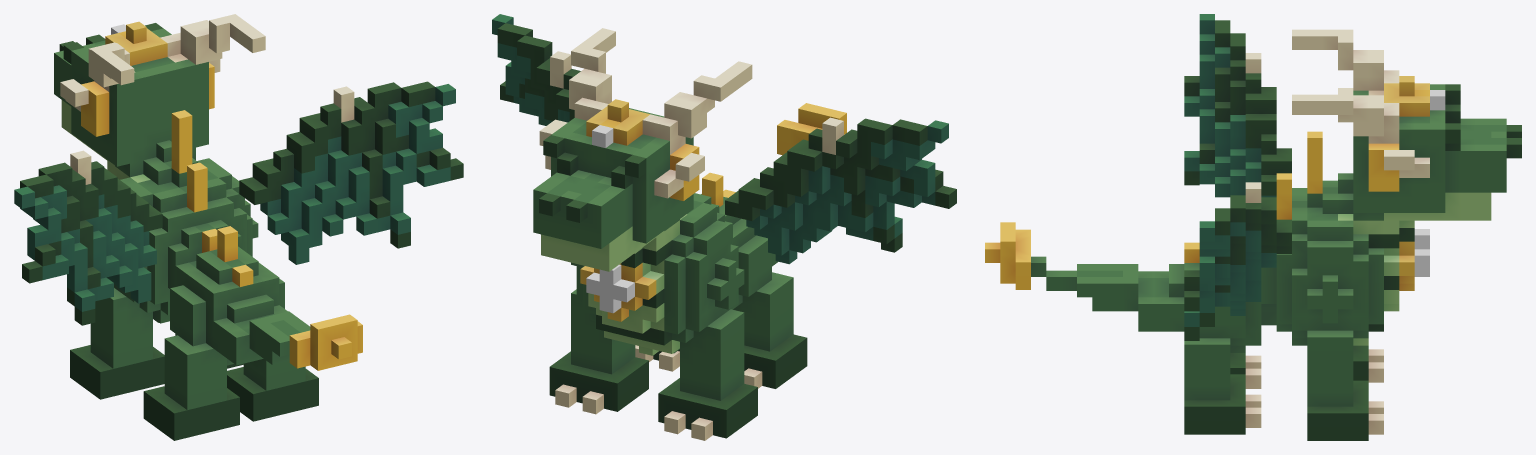
Rendered from Fafnir.glb.
3 views of the same model, side by side, from view 1: azimuth 30°, elevation 25°; view 2: azimuth 150°, elevation 25°; view 3: azimuth 270°, elevation 25° (orthographic). The views are drawn at different scales.
Visible parts, largest first — view 1: Head__VC, Body__VC, WingR2__VC, WingR__VC, WingL2__VC, Leg3__VC, Leg1__VC, WingL__VC, Leg4__VC, Tail3__VC, Tail__VC, Tail2__VC (+1 smaller); view 2: Head__VC, Body__VC, WingL2__VC, Leg1__VC, WingL__VC, Leg2__VC, Leg3__VC, WingR2__VC, Neck__VC, Tail3__VC, Body__Gem, WingR__VC (+1 smaller); view 3: Head__VC, Body__VC, WingL2__VC, Leg2__VC, WingR2__VC, Leg4__VC, WingL__VC, Tail__VC, WingR__VC, Neck__VC, Tail3__VC, Tail2__VC (+3 smaller).
Boxes of the visible parts, x1,y1,x2,y2 form: Head__VC: [54, 14, 265, 166]; Body__VC: [114, 110, 284, 365]; WingR2__VC: [333, 81, 463, 248]; WingR__VC: [239, 103, 356, 264]; WingL2__VC: [14, 150, 113, 325]; Leg3__VC: [143, 335, 239, 440]; Leg1__VC: [70, 288, 164, 399]; WingL__VC: [91, 161, 162, 303]; Leg4__VC: [227, 359, 318, 421]; Tail3__VC: [289, 314, 362, 370]; Tail__VC: [213, 305, 296, 365]; Tail2__VC: [257, 317, 310, 364]; Head__VC: [533, 28, 752, 271]; Body__VC: [571, 172, 771, 355]; WingL2__VC: [822, 117, 956, 252]; Leg1__VC: [658, 309, 757, 440]; WingL__VC: [725, 128, 837, 264]; Leg2__VC: [549, 289, 648, 414]; Leg3__VC: [733, 272, 807, 388]; WingR2__VC: [492, 14, 571, 125]; Neck__VC: [619, 214, 714, 268]; Tail3__VC: [777, 103, 846, 155]; Body__Gem: [586, 264, 634, 313]; WingR__VC: [556, 68, 580, 122]; Head__VC: [1292, 29, 1521, 220]; Body__VC: [1169, 131, 1414, 352]; WingL2__VC: [1184, 14, 1261, 185]; Leg2__VC: [1307, 330, 1383, 440]; WingR2__VC: [1184, 182, 1261, 340]; Leg4__VC: [1184, 338, 1261, 434]; WingL__VC: [1215, 73, 1291, 197]; Tail__VC: [1107, 264, 1184, 331]; WingR__VC: [1230, 197, 1291, 315]; Neck__VC: [1338, 173, 1414, 261]; Tail3__VC: [985, 222, 1046, 289]; Tail2__VC: [1046, 264, 1122, 311].
Size of the model in its own units: 5.28 by 3.84 by 5.6.
